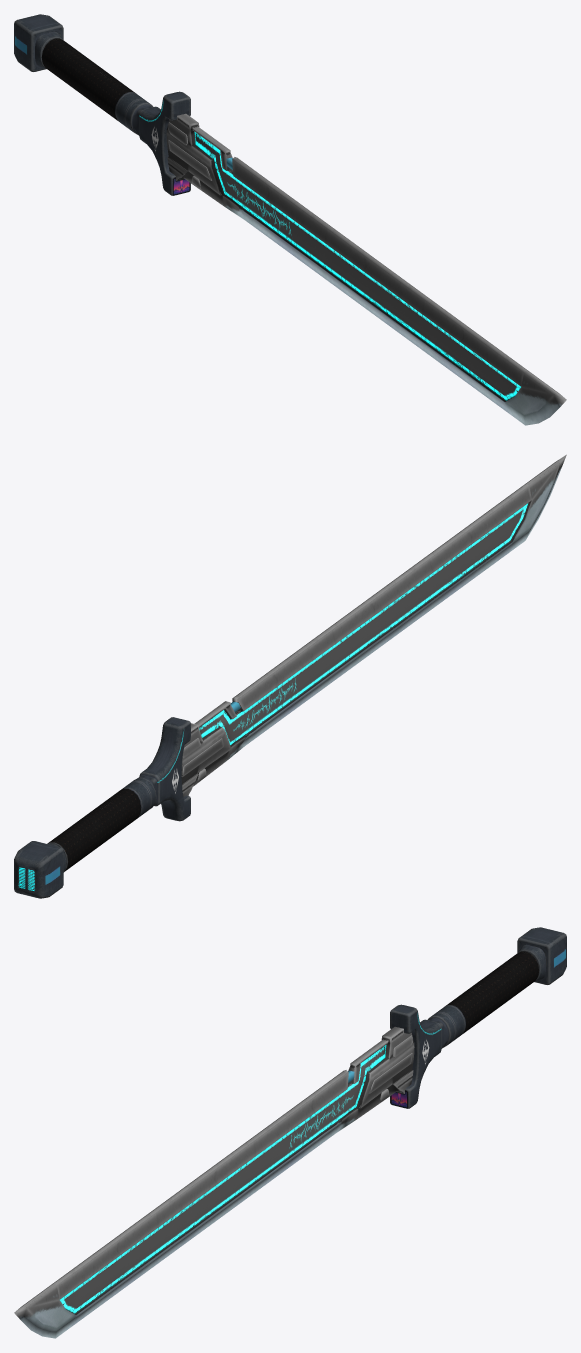
File: neo-arc_blade__sci-fi_energy_sword.glb
3 views of the same model, one above another, from view 1: azimuth 30°, elevation 25°; view 2: azimuth 150°, elevation 25°; view 3: azimuth 330°, elevation 25° (orthographic).
Visible parts, largest first — view 1: low_lp.008_0; view 2: low_lp.008_0; view 3: low_lp.008_0.
Part boxes in pixels (x1,y1,x2,y2): low_lp.008_0: (14,14,566,425); low_lp.008_0: (14,454,566,898); low_lp.008_0: (14,927,566,1338).
Bounding box in the file's own units: 0.5385 × 1.48 × 15.24.
1 material, 1 textured.
